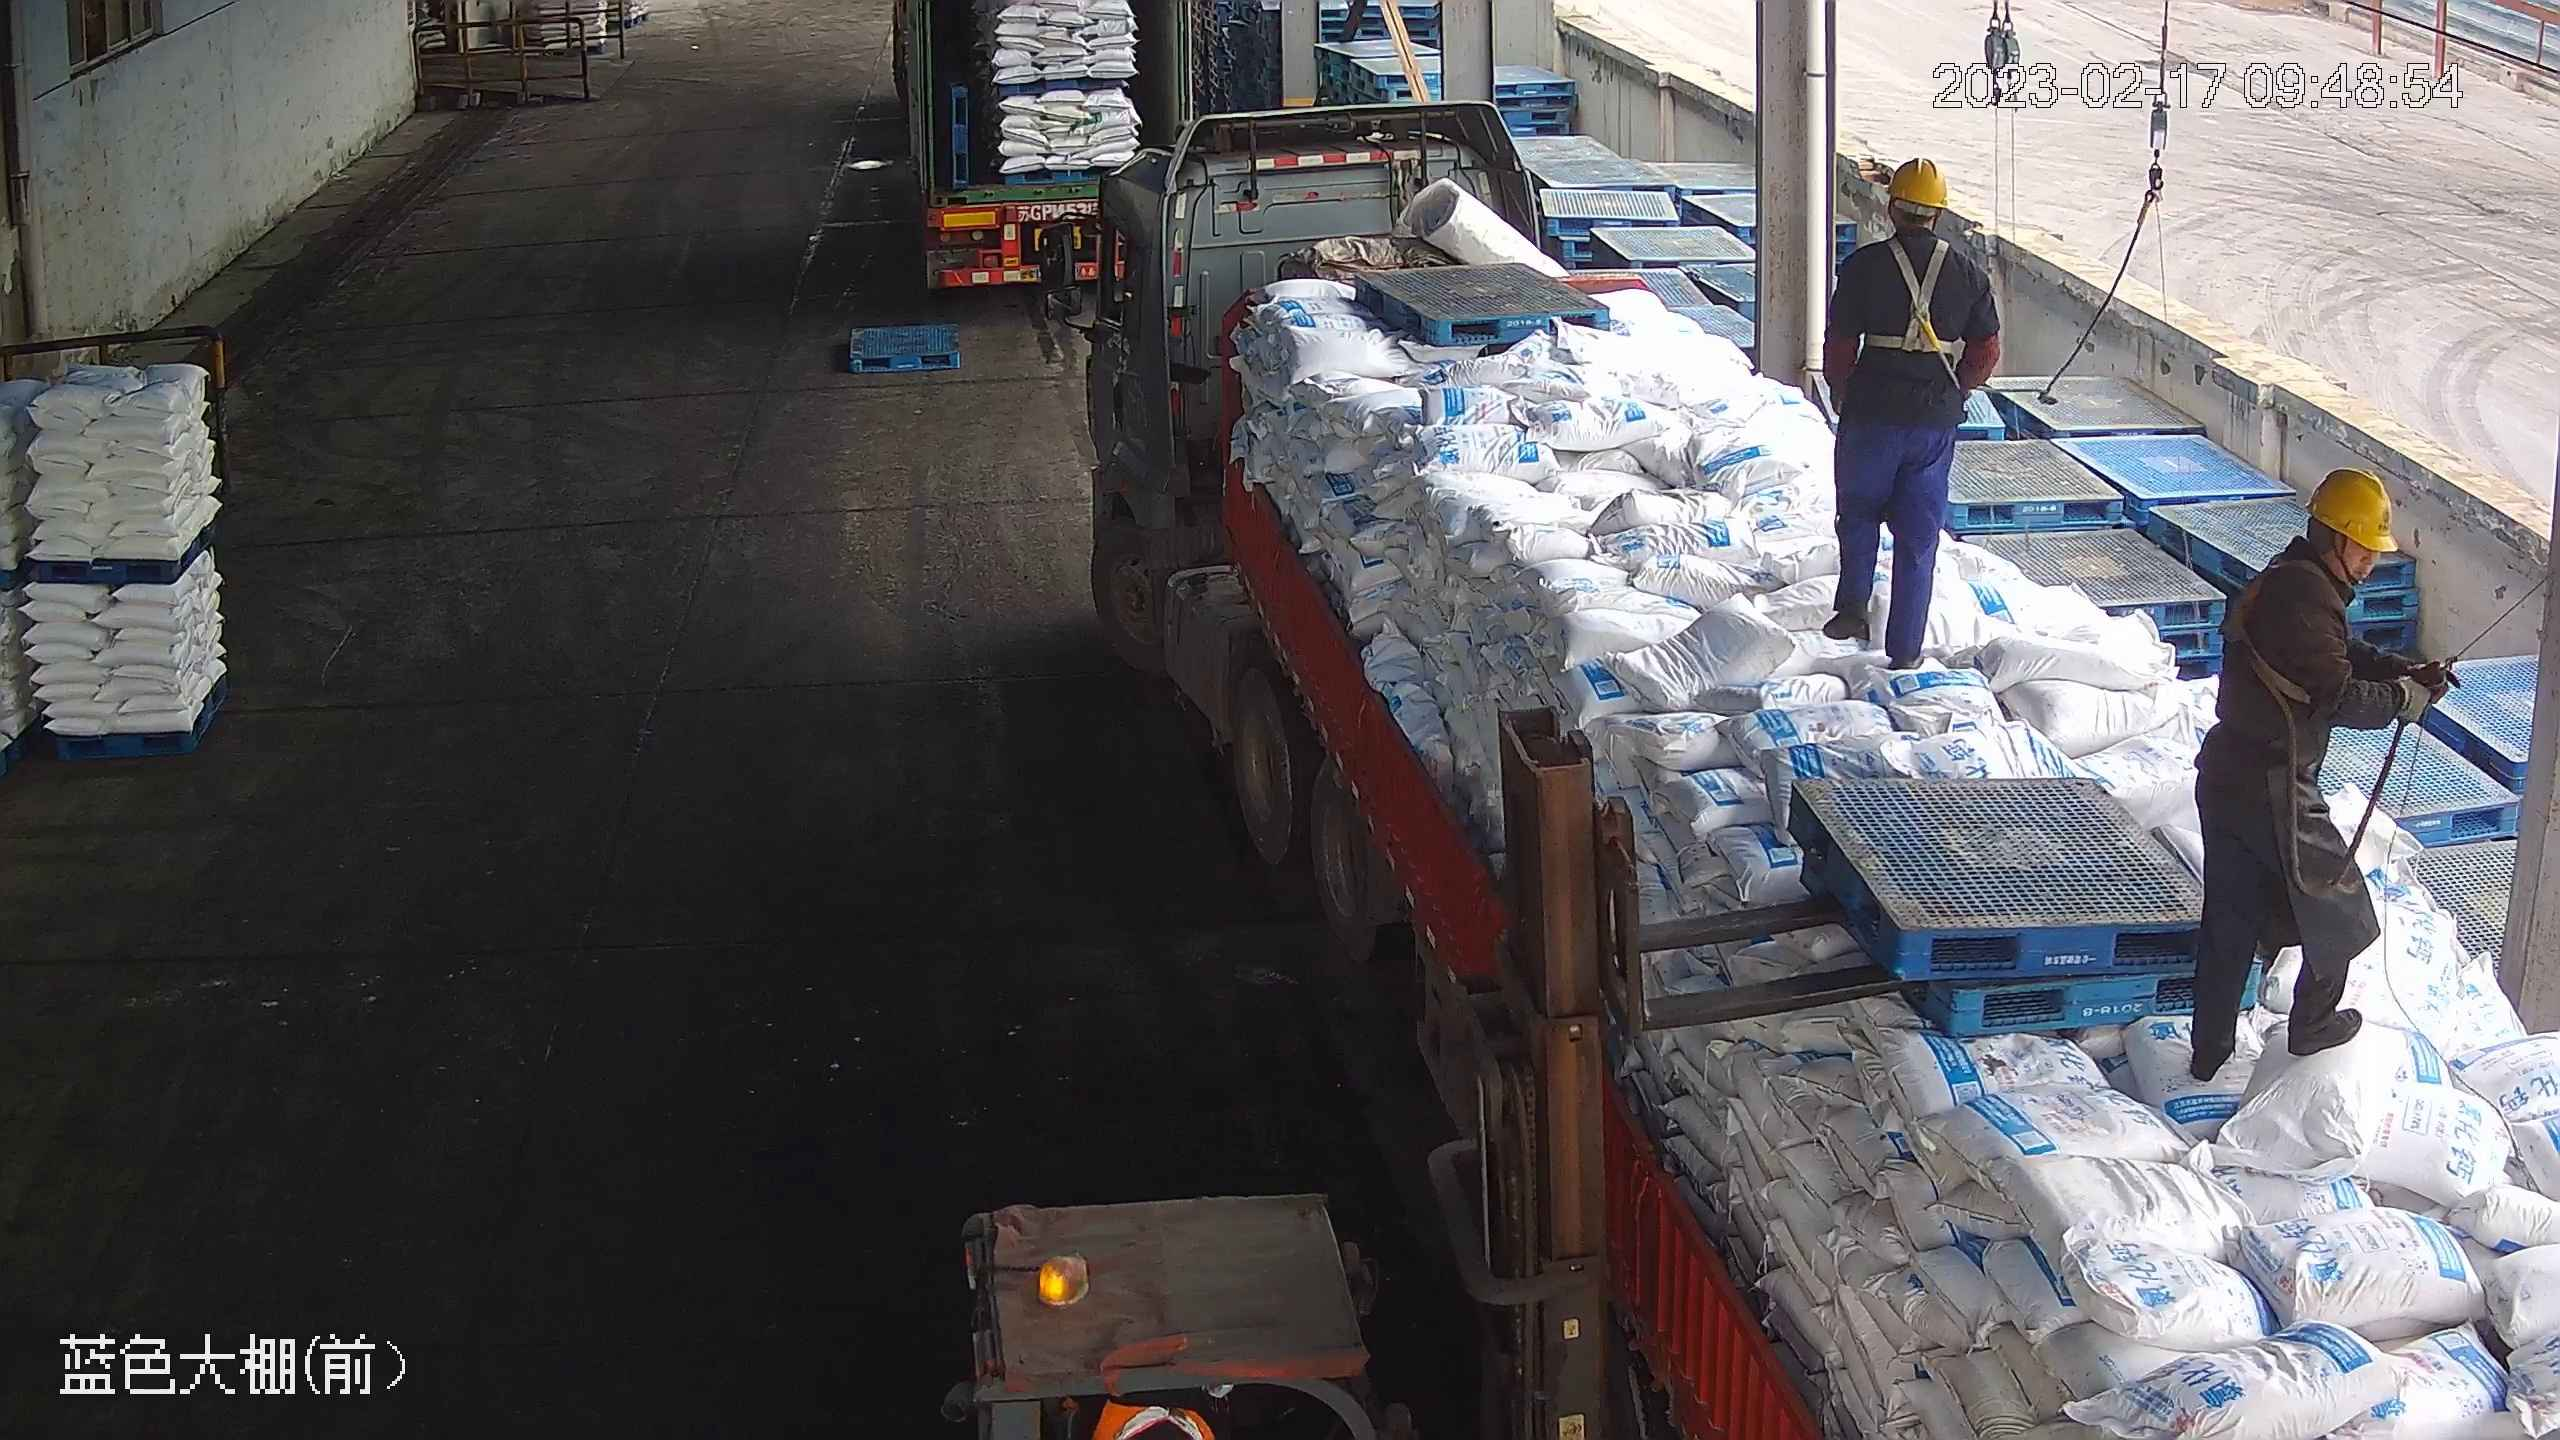belt: (2233, 566, 2352, 710), (1860, 236, 1965, 359)
head: (2237, 460, 2404, 645), (1842, 159, 1979, 290)
helmet: (2302, 461, 2398, 552), (1881, 157, 1949, 210)
people: (2173, 463, 2458, 1087), (1816, 157, 2004, 668)
truck: (1047, 99, 2559, 1440), (892, 1, 1199, 346)
